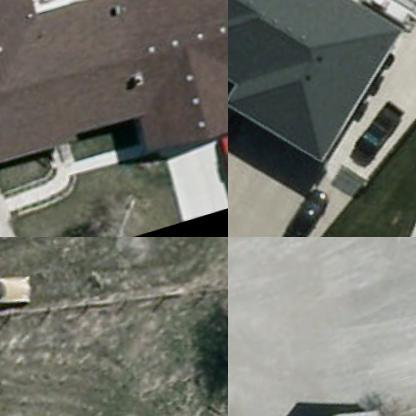car: (269, 183, 335, 236), (0, 264, 35, 323)
pickup: (344, 99, 410, 164), (212, 133, 227, 209)
